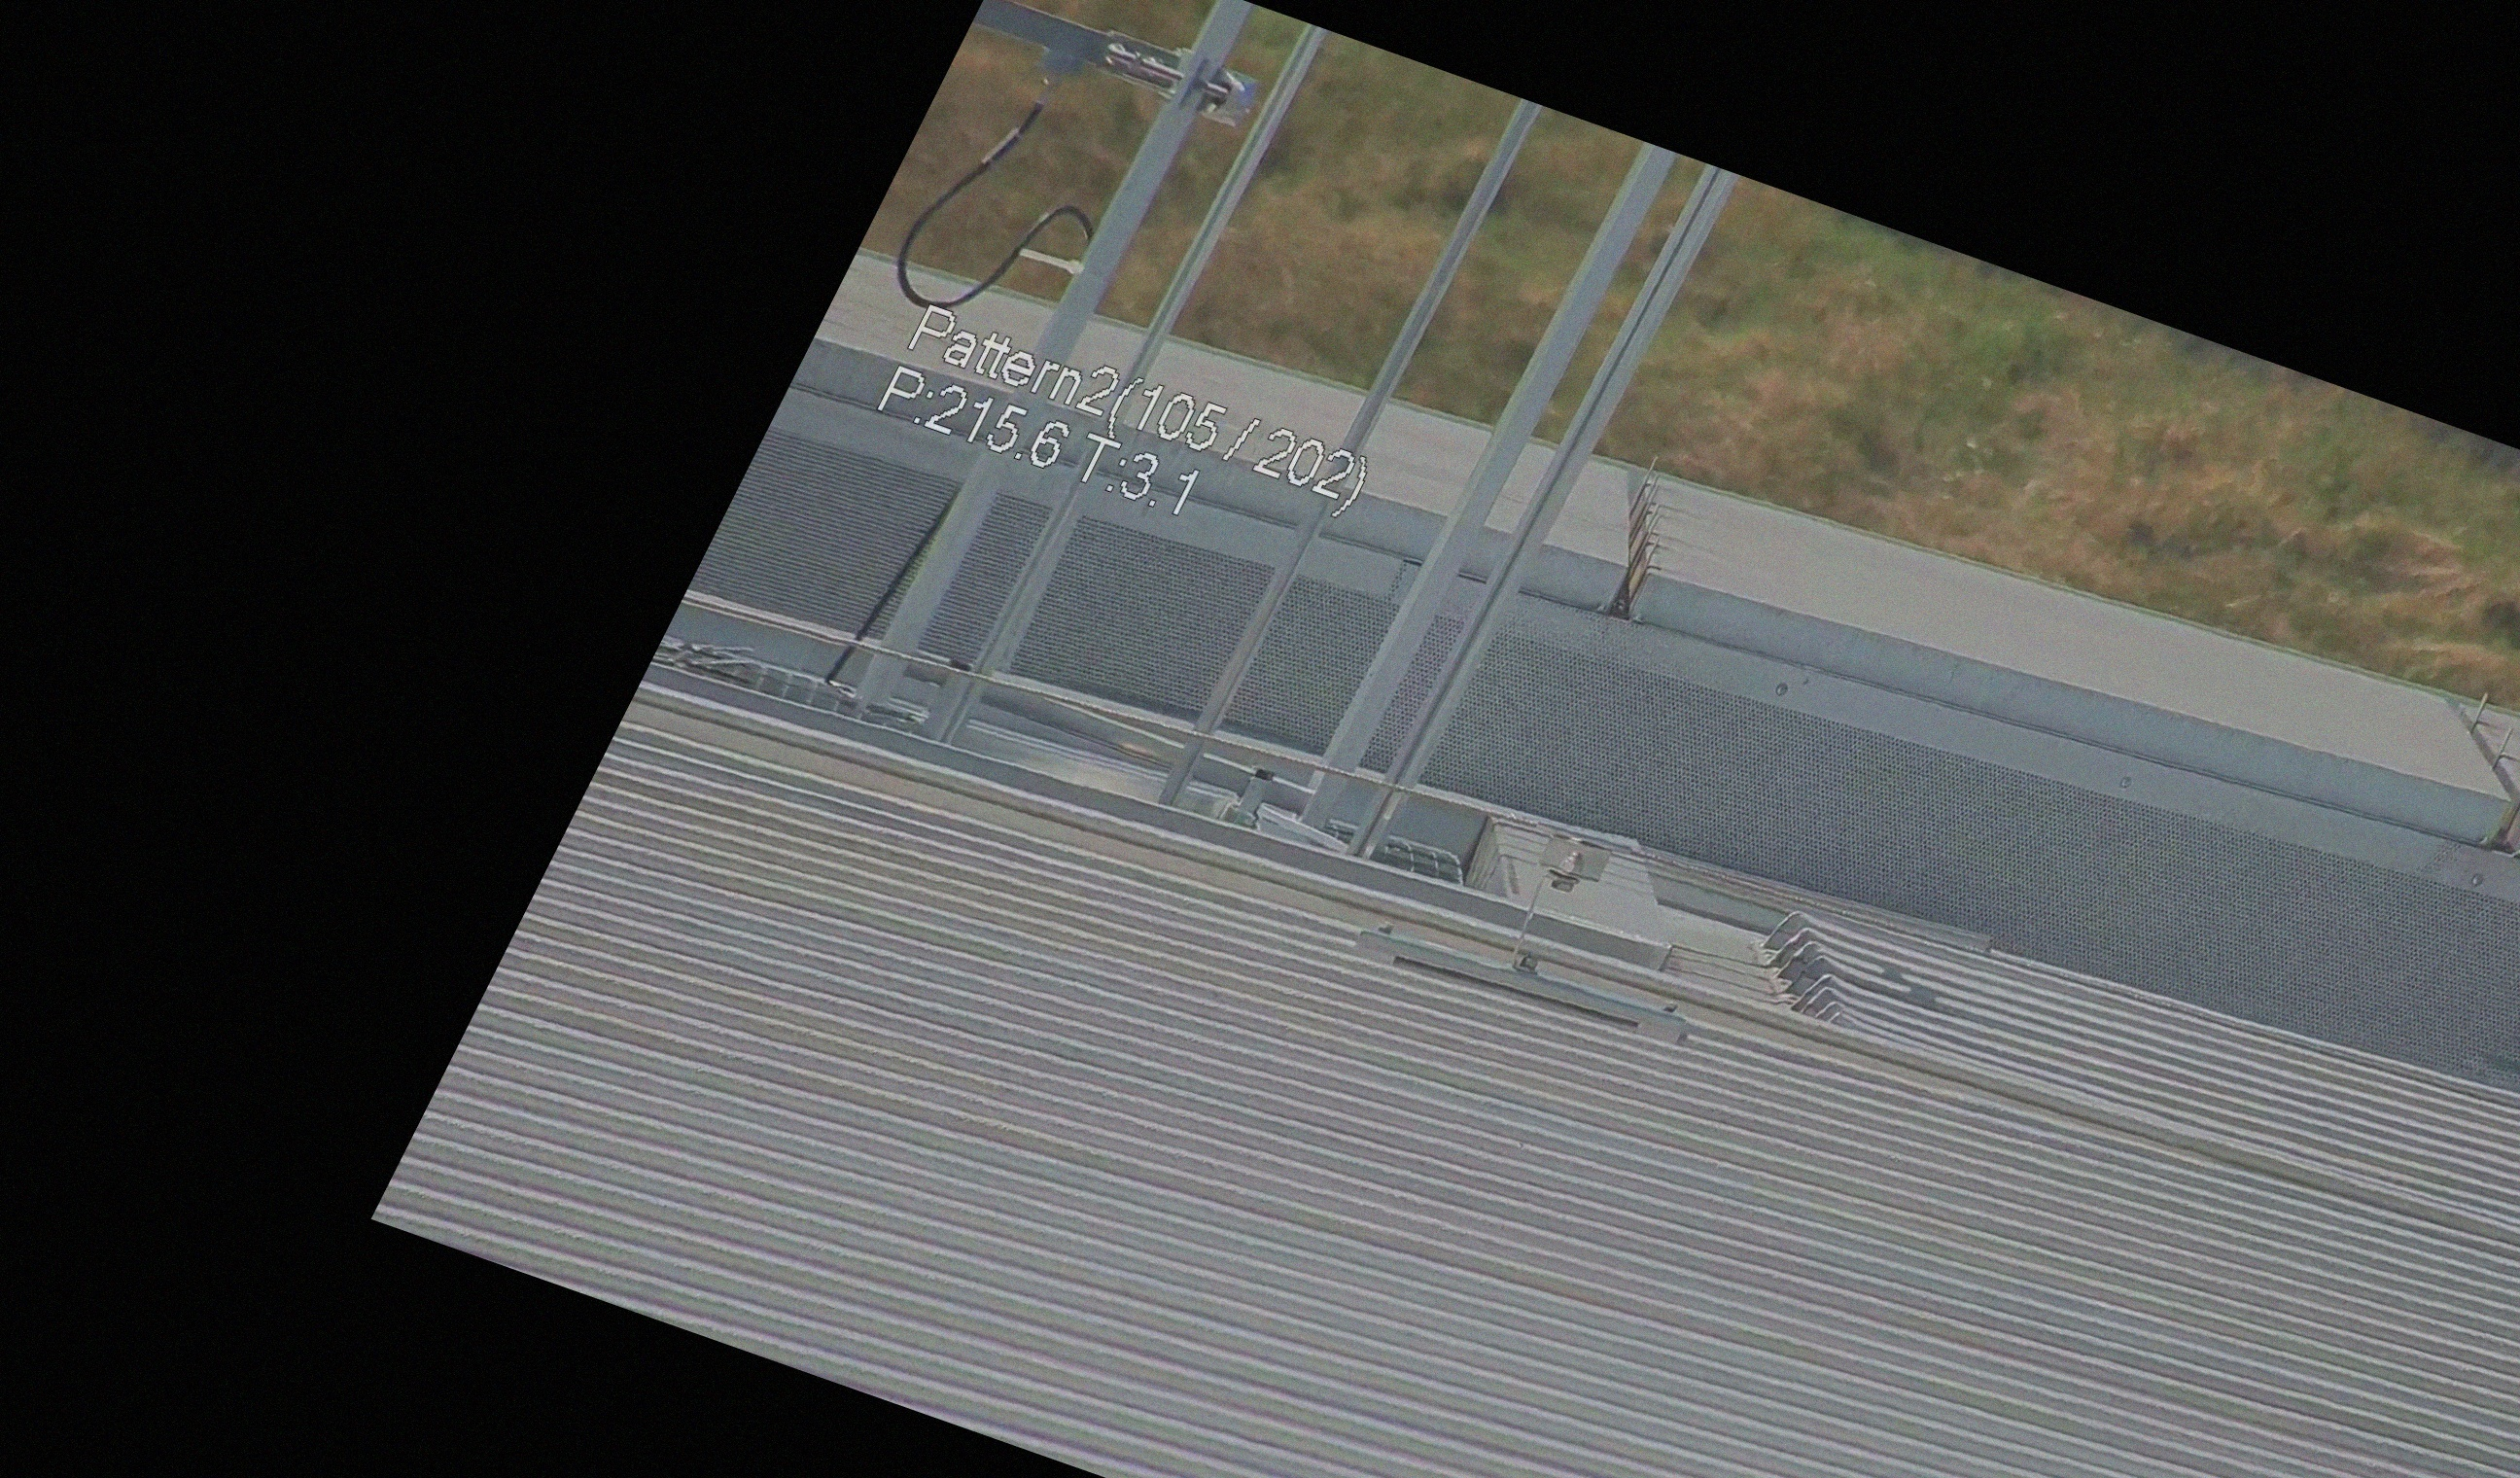Other: (1730, 883, 1903, 1049)
